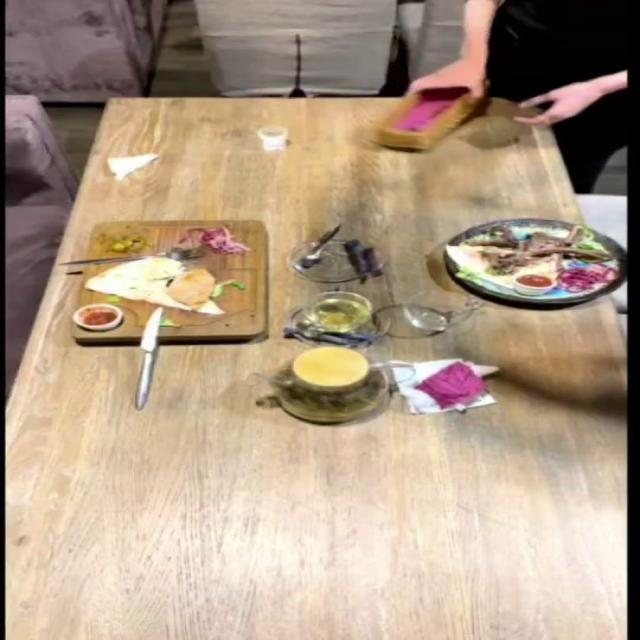meat: (454, 214, 640, 322)
tea: (267, 362, 492, 430)
